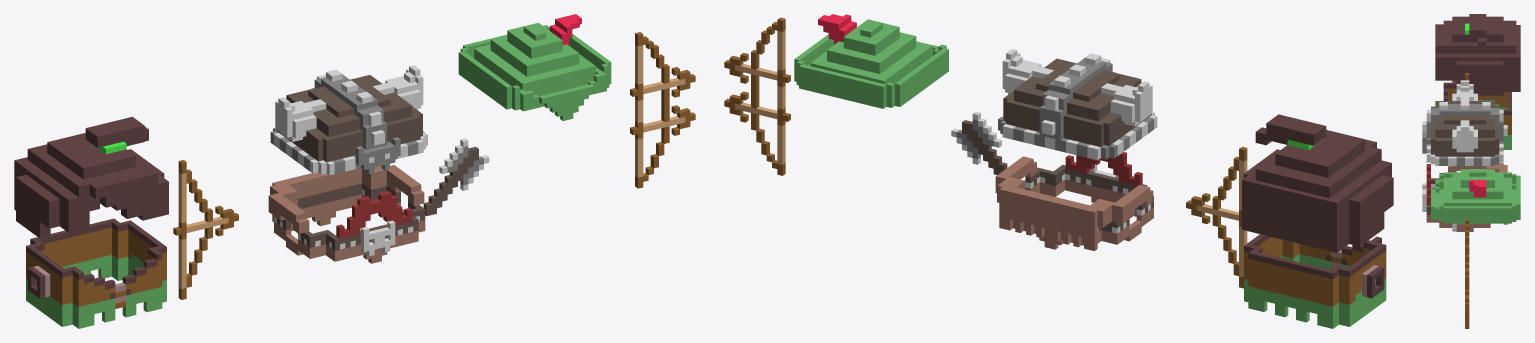
Rendered from 75- aarcher+barb+ranger.fbx.
3 views of the same model, side by side, from view 1: azimuth 30°, elevation 25°; view 2: azimuth 150°, elevation 25°; view 3: azimuth 270°, elevation 25° (orthographic). The views are drawn at different scales.
Parts seen in each view (by area): view 1: 298, 292, 293, 300, 297, 299, 294, 296, 295; view 2: 292, 298, 297, 300, 293, 299, 294, 296, 295; view 3: 292, 298, 300, 297, 293, 299, 295.
Boxes of the visible parts, x1,y1,x2,y2 form: 298: (270,65,427,175); 292: (14,116,168,238); 293: (26,218,166,328); 300: (458,14,611,120); 297: (268,165,425,263); 299: (630,32,695,188); 294: (173,160,238,299); 296: (423,138,489,216); 295: (336,191,412,238); 292: (1242,114,1393,252); 298: (998,49,1157,160); 297: (995,156,1153,250); 300: (794,14,948,108); 293: (1244,234,1386,328); 299: (724,17,790,175); 294: (1186,147,1247,288); 296: (951,111,1007,174); 295: (1065,152,1142,185); 292: (1435,14,1520,95); 298: (1422,80,1507,165); 300: (1431,169,1520,223); 297: (1422,163,1507,231); 293: (1443,80,1511,149); 299: (1465,218,1469,328); 295: (1426,164,1430,205).
Size of the model in its own units: 1248 by 330 by 230.
Materials: 14 (14 with a texture image).
